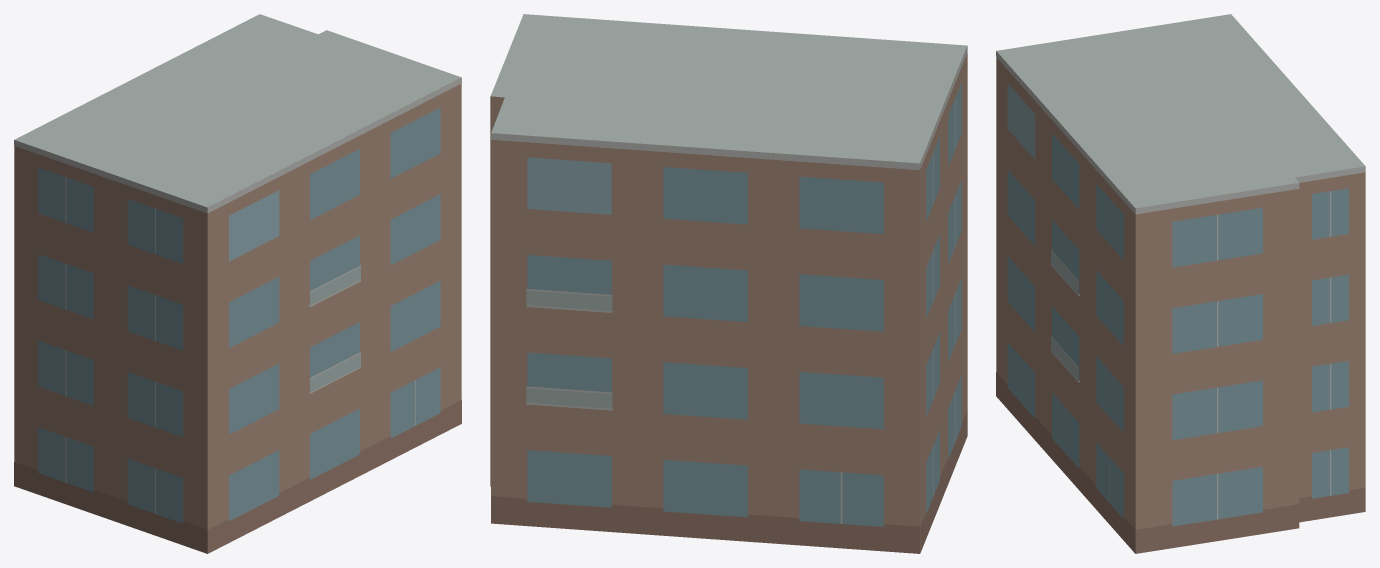
File: survey-upis-33034541.glb
3 views of the same model, side by side, from view 1: azimuth 30°, elevation 25°; view 2: azimuth 150°, elevation 25°; view 3: azimuth 270°, elevation 25° (orthographic). The views are drawn at different scales.
Visible parts, largest first — view 1: survey-upis-33034541.tmp; view 2: survey-upis-33034541.tmp; view 3: survey-upis-33034541.tmp.
Boxes of the visible parts, box(x1,y1,x2,y2) form: survey-upis-33034541.tmp: box(14, 14, 461, 553); survey-upis-33034541.tmp: box(490, 14, 967, 553); survey-upis-33034541.tmp: box(996, 14, 1365, 553).
Size of the model in its own units: 17.16 by 14.2 by 13.78.
